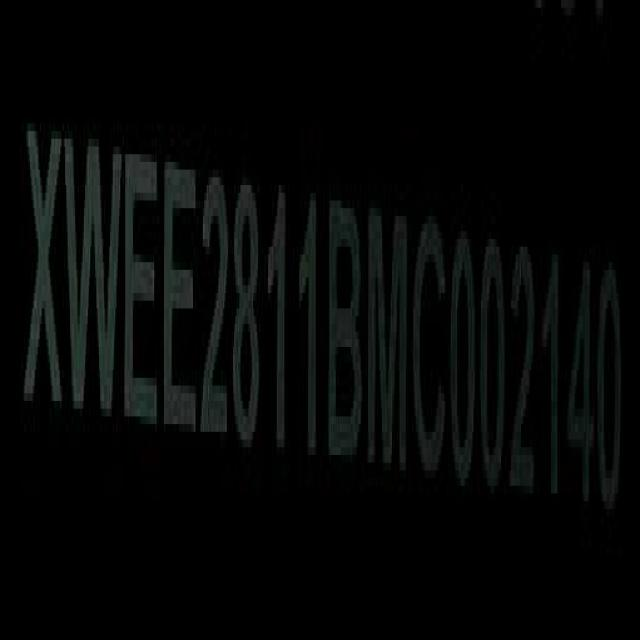0: (478, 220, 507, 508), (449, 223, 476, 494), (596, 260, 624, 502)
1: (297, 188, 320, 466), (268, 177, 288, 460), (540, 252, 562, 506)
2: (508, 226, 538, 511), (201, 171, 228, 440)
4: (566, 248, 596, 517)
8: (232, 166, 261, 457)
B: (327, 200, 364, 465)
C: (413, 217, 448, 483)
E: (124, 137, 160, 434), (163, 148, 197, 440)
M: (366, 200, 410, 463)
W: (63, 123, 123, 431)
X: (23, 111, 63, 443)
